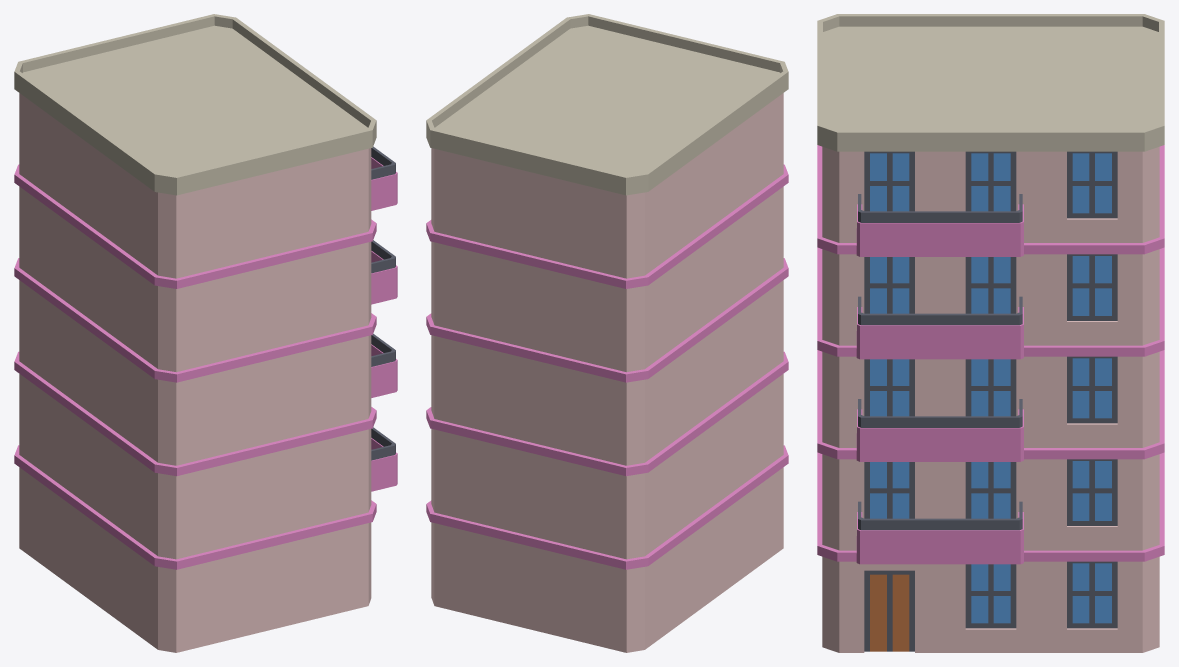
The picture shows the model from 3 angles, left to right: view 1: azimuth 30°, elevation 25°; view 2: azimuth 150°, elevation 25°; view 3: azimuth 270°, elevation 25°; orthographic projection. The views are drawn at different scales.
Parts seen in each view (by area): view 1: Predio 8.003; view 2: Predio 8.003; view 3: Predio 8.003.
Boxes of the visible parts, x1,y1,x2,y2 form: Predio 8.003: (14,14,397,652); Predio 8.003: (426,14,788,652); Predio 8.003: (817,14,1164,652).
Bounding box in the file's own units: 5694 × 10256 × 6180.
